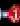potion: (0, 3, 20, 23)
